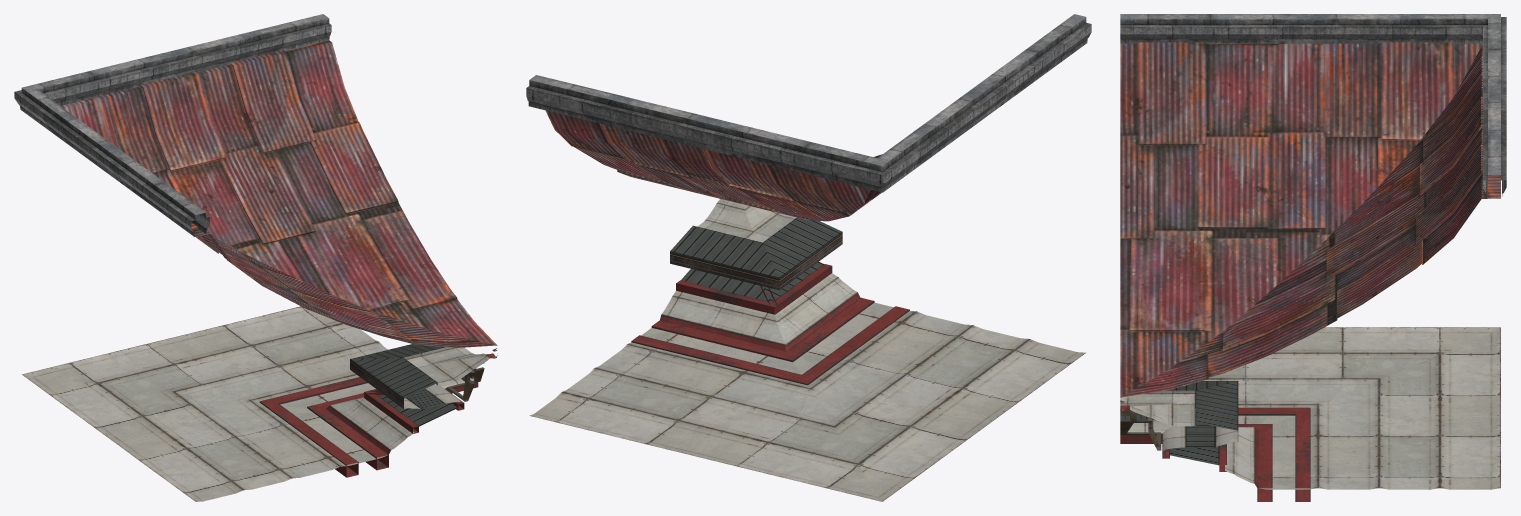
Rendered from Pagoda_Tile_Roof_CornerInner_5000x5000_A.FBX.
3 renders of one model, left to right at view 1: azimuth 30°, elevation 25°; view 2: azimuth 150°, elevation 25°; view 3: azimuth 270°, elevation 25°, orthographic. The views are drawn at different scales.
Visible parts, largest first — view 1: Geometry_Pagoda_Tile_Roof_CornerInner_5000x5000_A_LOD00; view 2: Geometry_Pagoda_Tile_Roof_CornerInner_5000x5000_A_LOD00; view 3: Geometry_Pagoda_Tile_Roof_CornerInner_5000x5000_A_LOD00.
Boxes of the visible parts, x1,y1,x2,y2 form: Geometry_Pagoda_Tile_Roof_CornerInner_5000x5000_A_LOD00: (14, 14, 497, 501); Geometry_Pagoda_Tile_Roof_CornerInner_5000x5000_A_LOD00: (526, 14, 1091, 501); Geometry_Pagoda_Tile_Roof_CornerInner_5000x5000_A_LOD00: (1120, 14, 1506, 501).
Size of what is drawn, in the model's own units: 5075 by 4742 by 5075.
4 materials, 4 textured.
